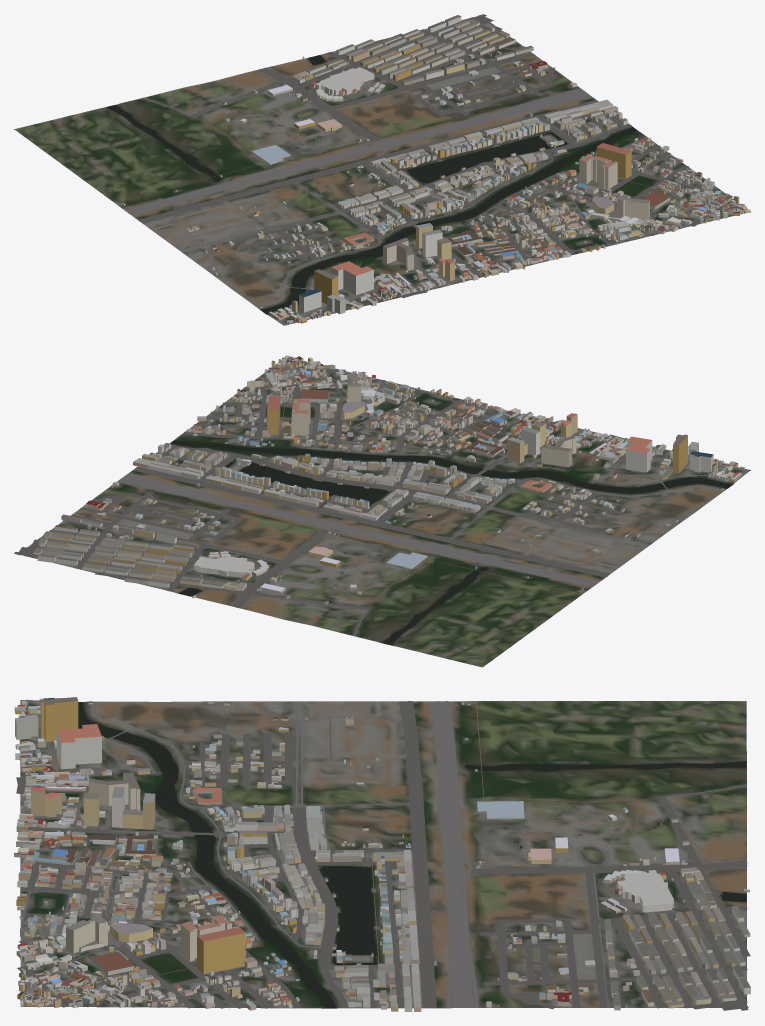
The picture shows the model from 3 angles, top to bottom: view 1: azimuth 30°, elevation 25°; view 2: azimuth 150°, elevation 25°; view 3: azimuth 270°, elevation 25°; orthographic projection. The views are drawn at different scales.
Parts seen in each view (by area): view 1: ground, buildings, roads, water; view 2: ground, buildings, roads, water; view 3: ground, buildings, roads, water.
Boxes of the visible parts, bbox=[...] form: ground: bbox=[14, 17, 750, 325]; buildings: bbox=[121, 15, 750, 323]; roads: bbox=[100, 14, 733, 324]; water: bbox=[106, 55, 636, 313]; ground: bbox=[24, 360, 750, 667]; buildings: bbox=[33, 355, 744, 604]; roads: bbox=[14, 366, 749, 636]; water: bbox=[170, 440, 731, 644]; ground: bbox=[20, 700, 746, 1008]; buildings: bbox=[14, 697, 750, 1011]; roads: bbox=[16, 700, 750, 1010]; water: bbox=[78, 702, 746, 1007].
Size of the model in its own units: 1417 by 85.25 by 1421.
